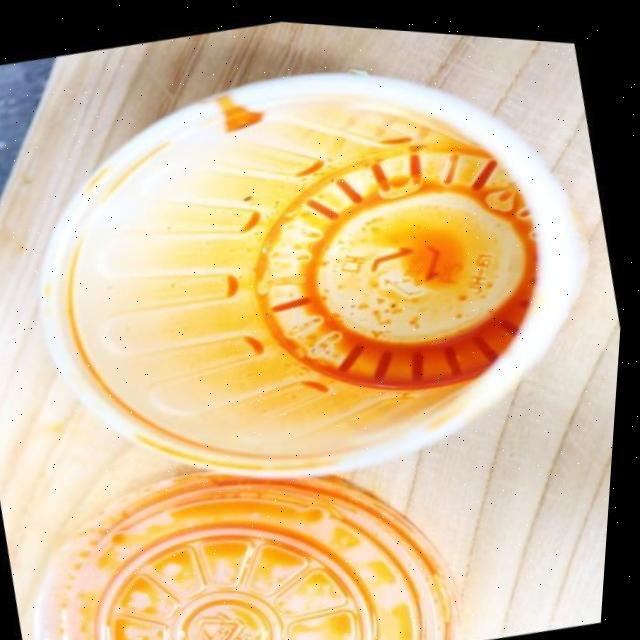disposable: (4, 1, 640, 529)
